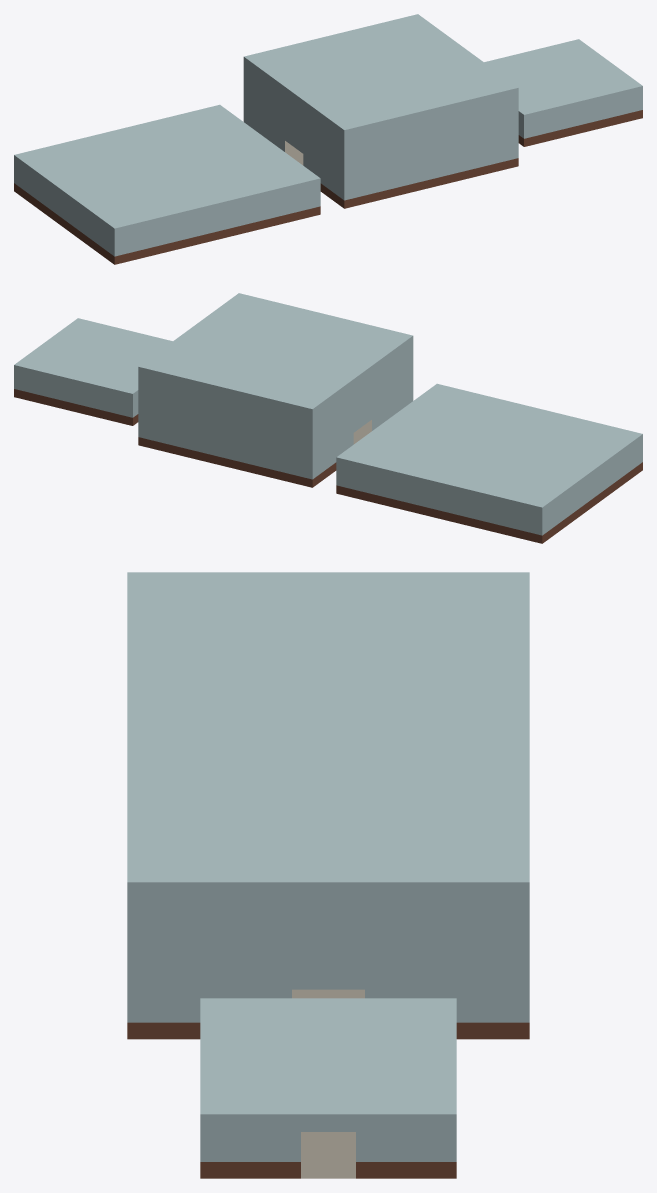
Rendered from conservatory_int.glb.
The picture shows the model from 3 angles, top to bottom: view 1: azimuth 30°, elevation 25°; view 2: azimuth 150°, elevation 25°; view 3: azimuth 270°, elevation 25°; orthographic projection. The views are drawn at different scales.
Visible parts, largest first — view 1: conservatory_int; view 2: conservatory_int; view 3: conservatory_int.
Boxes of the visible parts, x1,y1,x2,y2 form: conservatory_int: (14,14,642,264); conservatory_int: (14,293,642,543); conservatory_int: (127,572,529,1178).
Size of the model in its own units: 69 by 9.5 by 22.
